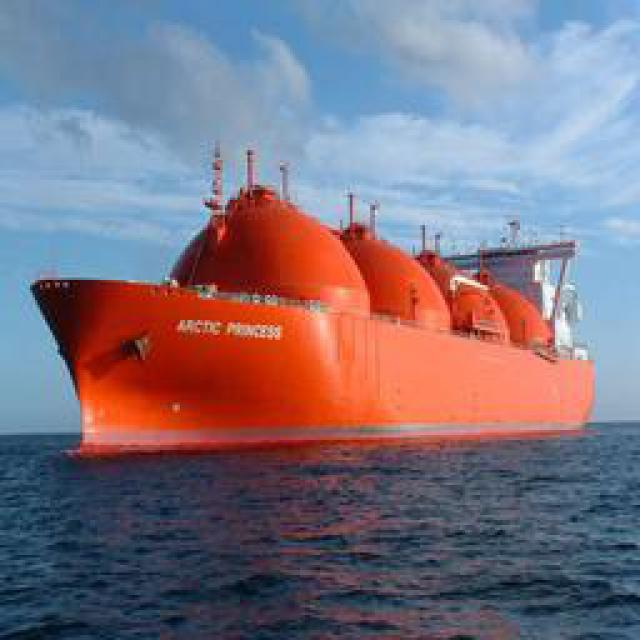Ship: (40, 180, 593, 448)
